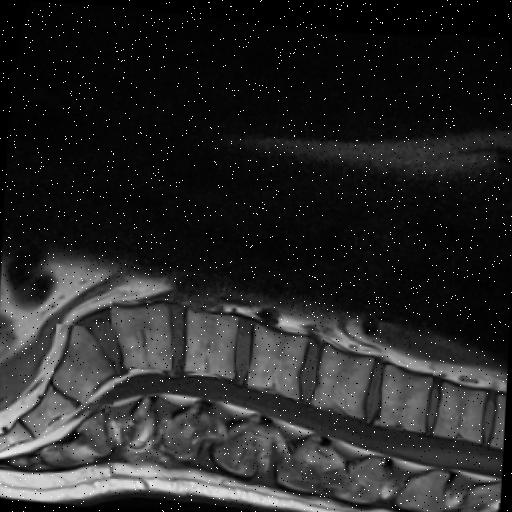L1: (380, 360, 431, 428)
L2: (313, 342, 372, 414)
L3: (247, 322, 306, 395)
L4: (185, 310, 235, 373)
L5: (110, 303, 171, 369)
S1: (52, 325, 114, 401)
